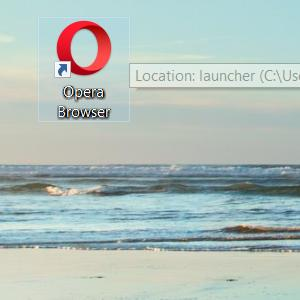opera: (55, 21, 112, 78)
